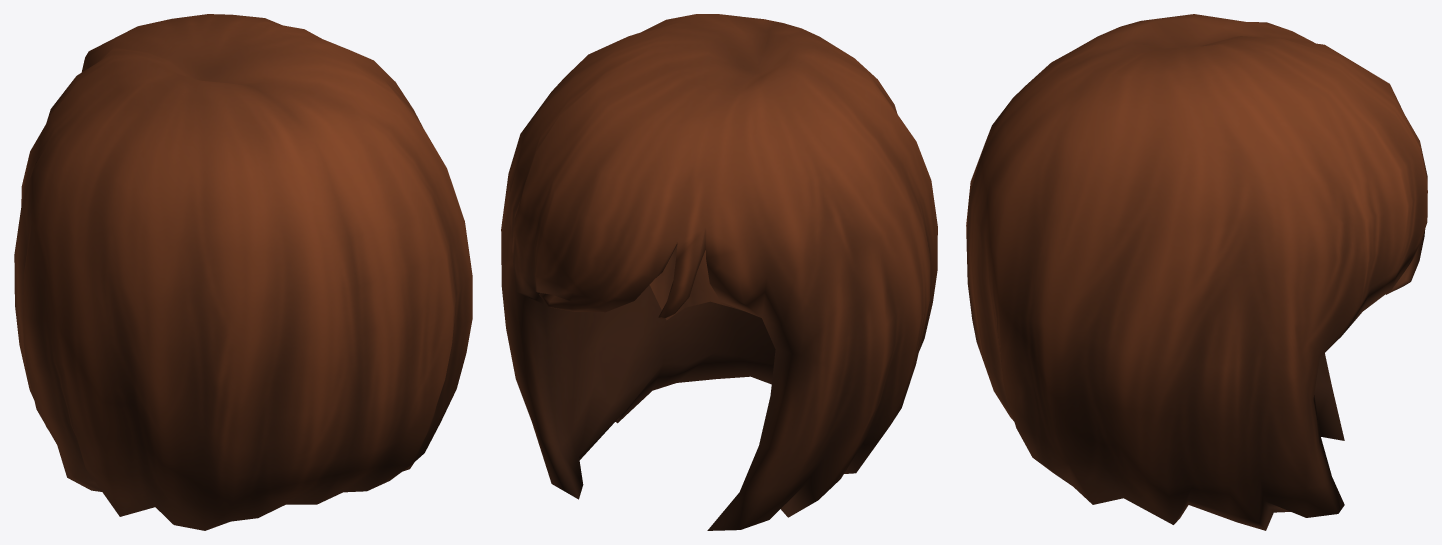
The model's file is Hair_Female_004_textured_brown.glb.
3 renders of one model, left to right at view 1: azimuth 30°, elevation 25°; view 2: azimuth 150°, elevation 25°; view 3: azimuth 270°, elevation 25°, orthographic. The views are drawn at different scales.
Visible parts, largest first — view 1: Hair_Female_004; view 2: Hair_Female_004; view 3: Hair_Female_004.
Part boxes in pixels (box(x1,y1,x2,y2)): Hair_Female_004: box(14, 14, 472, 530); Hair_Female_004: box(501, 14, 937, 530); Hair_Female_004: box(966, 14, 1427, 530).
Size of the model in its own units: 0.214 by 0.2309 by 0.223.
Materials: 1 (1 with a texture image).
